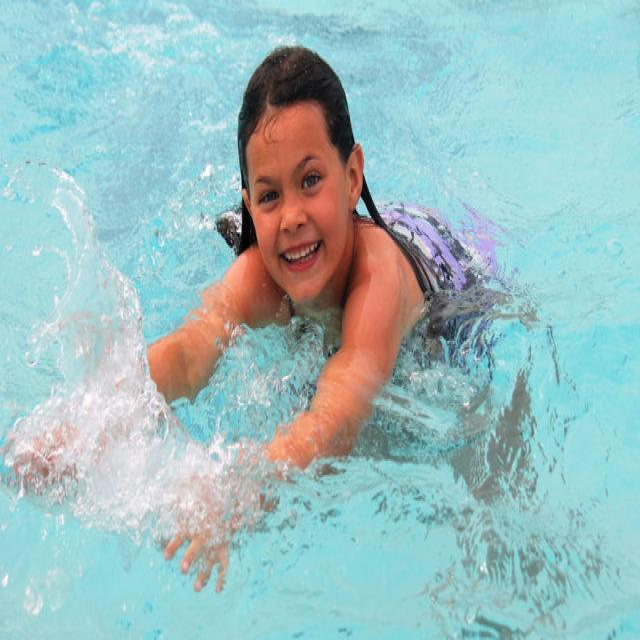Swimming: (127, 45, 496, 480)
